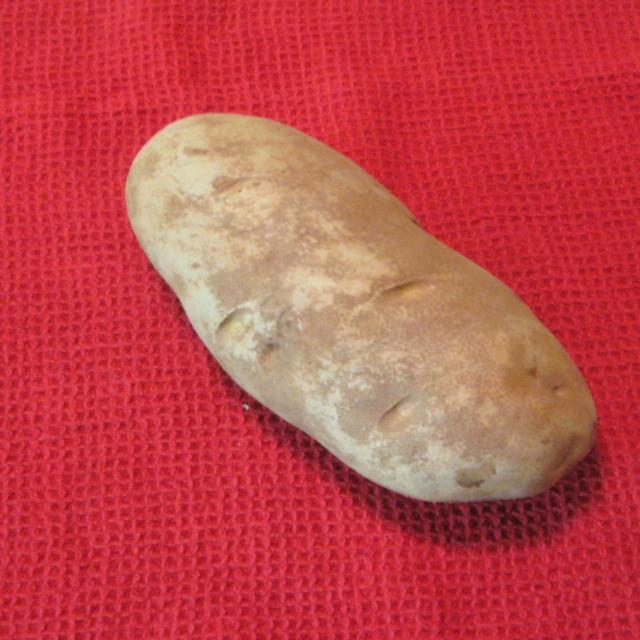potato: (124, 114, 596, 503)
